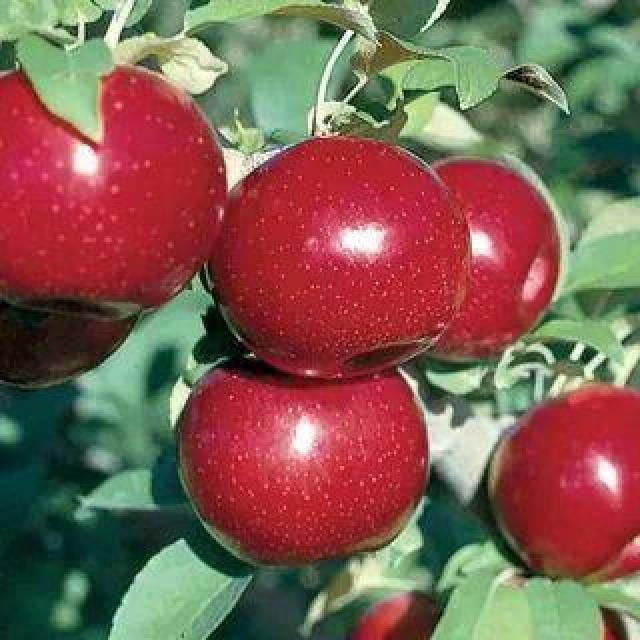Rotten Apple: (214, 123, 470, 377), (179, 366, 429, 566)
